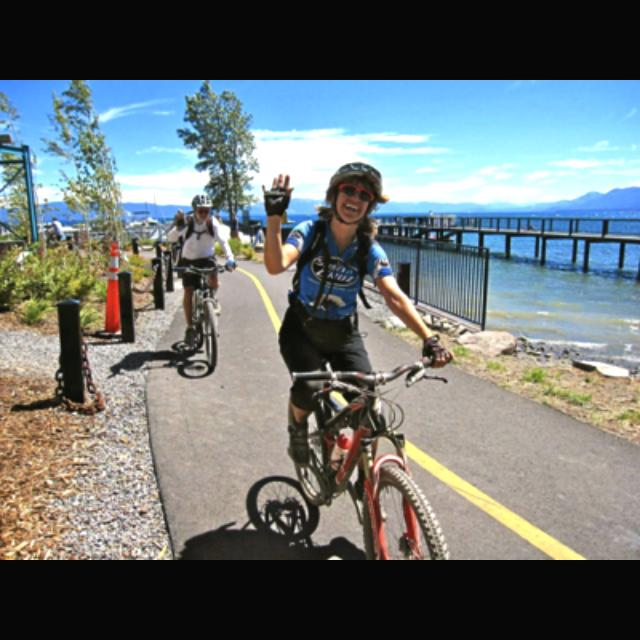With Helmet: (324, 152, 386, 235), (186, 188, 218, 225)
